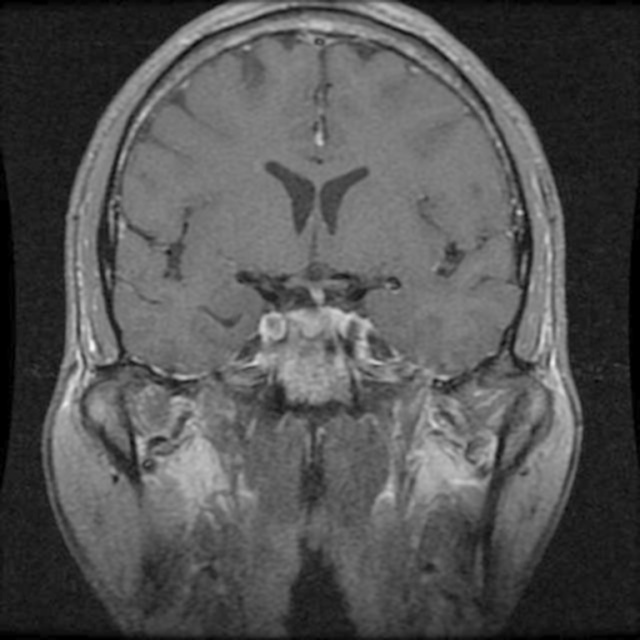no tumor: (248, 298, 368, 402)
